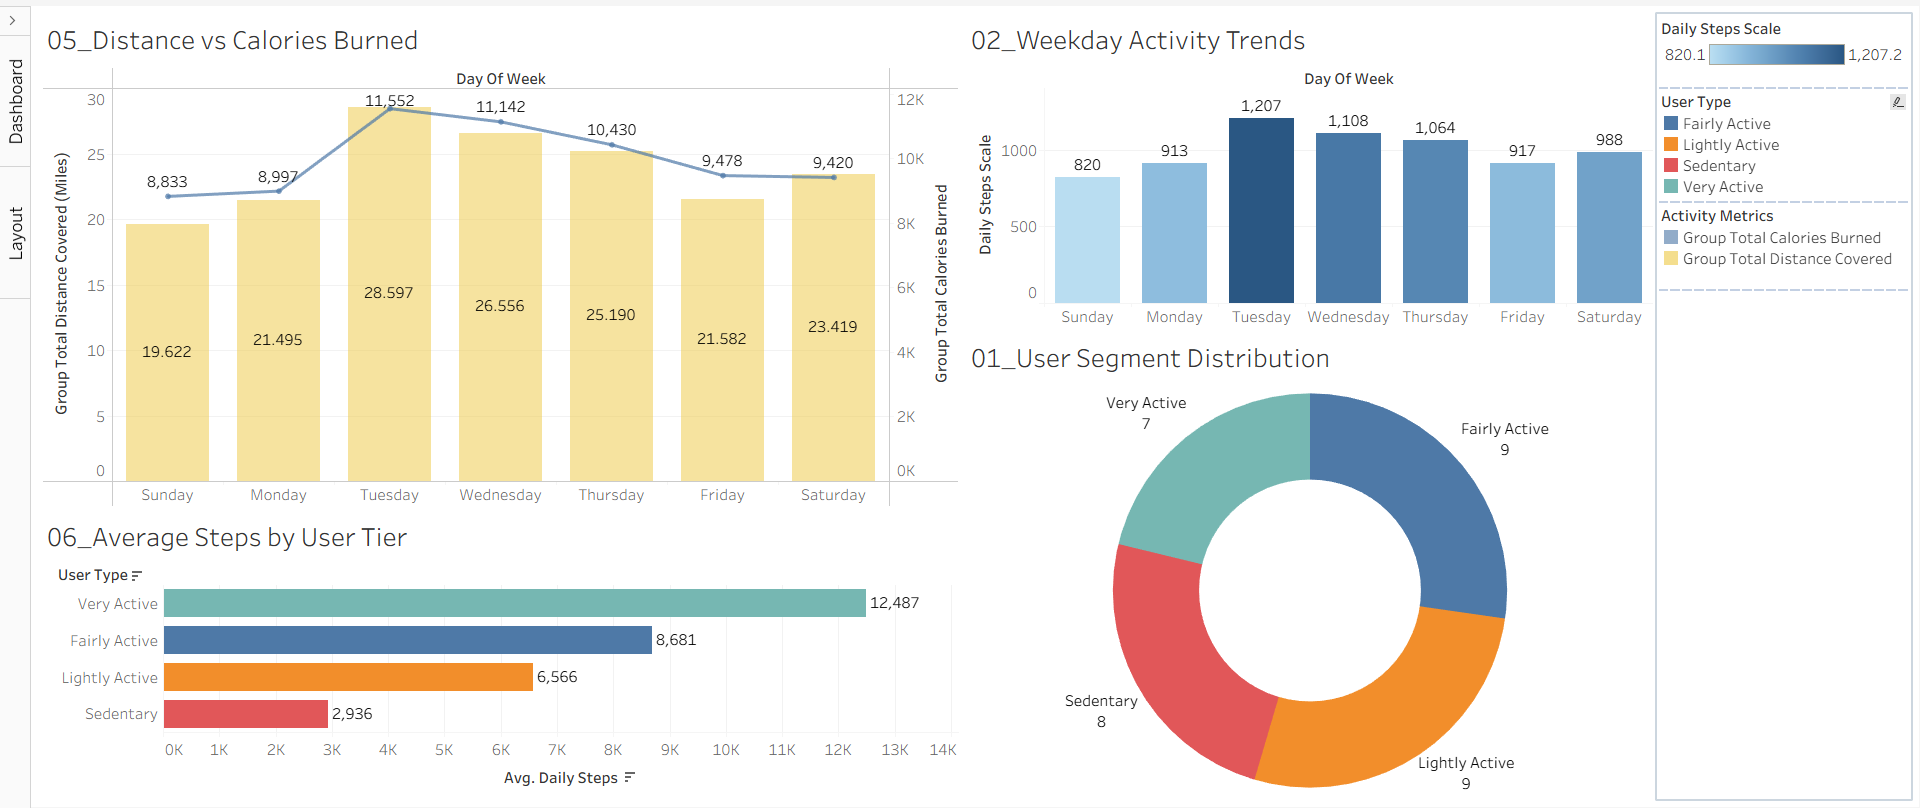

The page's visual inventory and layout, read from the dashboard file:
{"tool":"tableau","page":{"name":"01_Dashboard 1","canvas":[1000,1000],"units":"permille","ordinal":0},"visuals":[{"type":"worksheet","title":"05_Distance vs Calories Burned","mark":"Bar","rows":["Calculation_1725723084393852935","Calculation_1725723084394029064"],"cols":["DayOfWeek"],"box":[4.2,10,489.5,620.5]},{"type":"worksheet","title":"02_Weekday Activity Trends","mark":"Automatic","rows":["Calculation_1725723084331737092"],"cols":["DayOfWeek"],"box":[493.8,10,367.5,397.6]},{"type":"legend","title":"02_Weekday Activity Trends","param":"[federated.1rrz1cr02x1r7h12w4i9307t9bkw].[avg:Calculation_1725723084331737092:qk","box":[861.2,10,134.5,91.1]},{"type":"legend","title":"06_Average Steps by User Tier","param":"[federated.036h0yt1p1j0ue1fsr4sc1niqc8t].[none:user_type:nk]","box":[861.2,101.1,134.5,142.3]},{"type":"legend","title":"05_Distance vs Calories Burned","param":"[federated.1rrz1cr02x1r7h12w4i9307t9bkw].[:Measure Names]","box":[861.2,243.5,134.5,109.9]},{"type":"worksheet","title":"01_User Segment Distribution","mark":"Pie","rows":["Calculation_1725723084308459521","Calculation_1725723084308549635"],"box":[493.8,407.6,367.5,582.4]},{"type":"worksheet","title":"06_Average Steps by User Tier","mark":"Automatic","rows":["user_type"],"cols":["avg_daily_steps"],"box":[4.2,630.5,489.5,359.6]}]}

Visuals, with their boxes on the dashboard's canvas, which has no fixed pixel size, in thousandths of its width and height (x1, y1, x2, y2). These are canvas units, not pixel positions in the 1920x808 screenshot, which may show the page scaled, cropped or inside an application window:
"05_Distance vs Calories Burned" worksheet (Bar marks): {"left": 4, "top": 10, "right": 494, "bottom": 630}
"02_Weekday Activity Trends" worksheet: {"left": 494, "top": 10, "right": 861, "bottom": 408}
"02_Weekday Activity Trends" legend: {"left": 861, "top": 10, "right": 996, "bottom": 101}
"06_Average Steps by User Tier" legend: {"left": 861, "top": 101, "right": 996, "bottom": 243}
"05_Distance vs Calories Burned" legend: {"left": 861, "top": 244, "right": 996, "bottom": 353}
"01_User Segment Distribution" worksheet (Pie marks): {"left": 494, "top": 408, "right": 861, "bottom": 990}
"06_Average Steps by User Tier" worksheet: {"left": 4, "top": 630, "right": 494, "bottom": 990}
